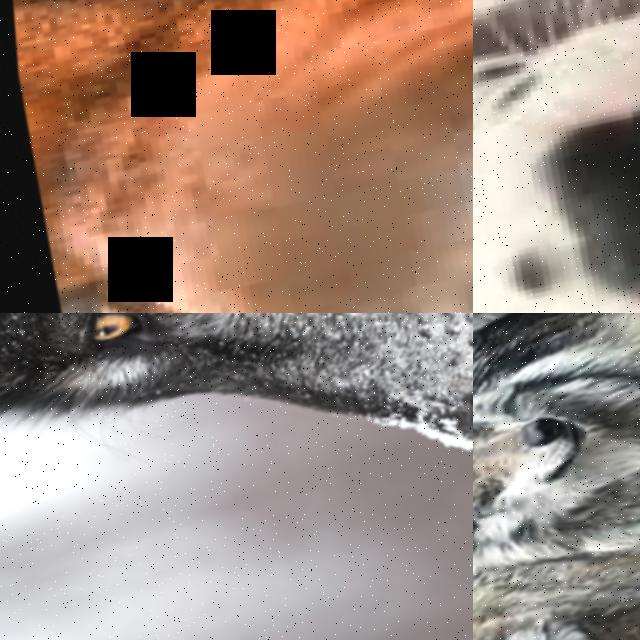dog: (0, 0, 473, 313), (473, 0, 640, 313)
wolf: (0, 313, 473, 581), (473, 313, 640, 588), (473, 443, 640, 640)
